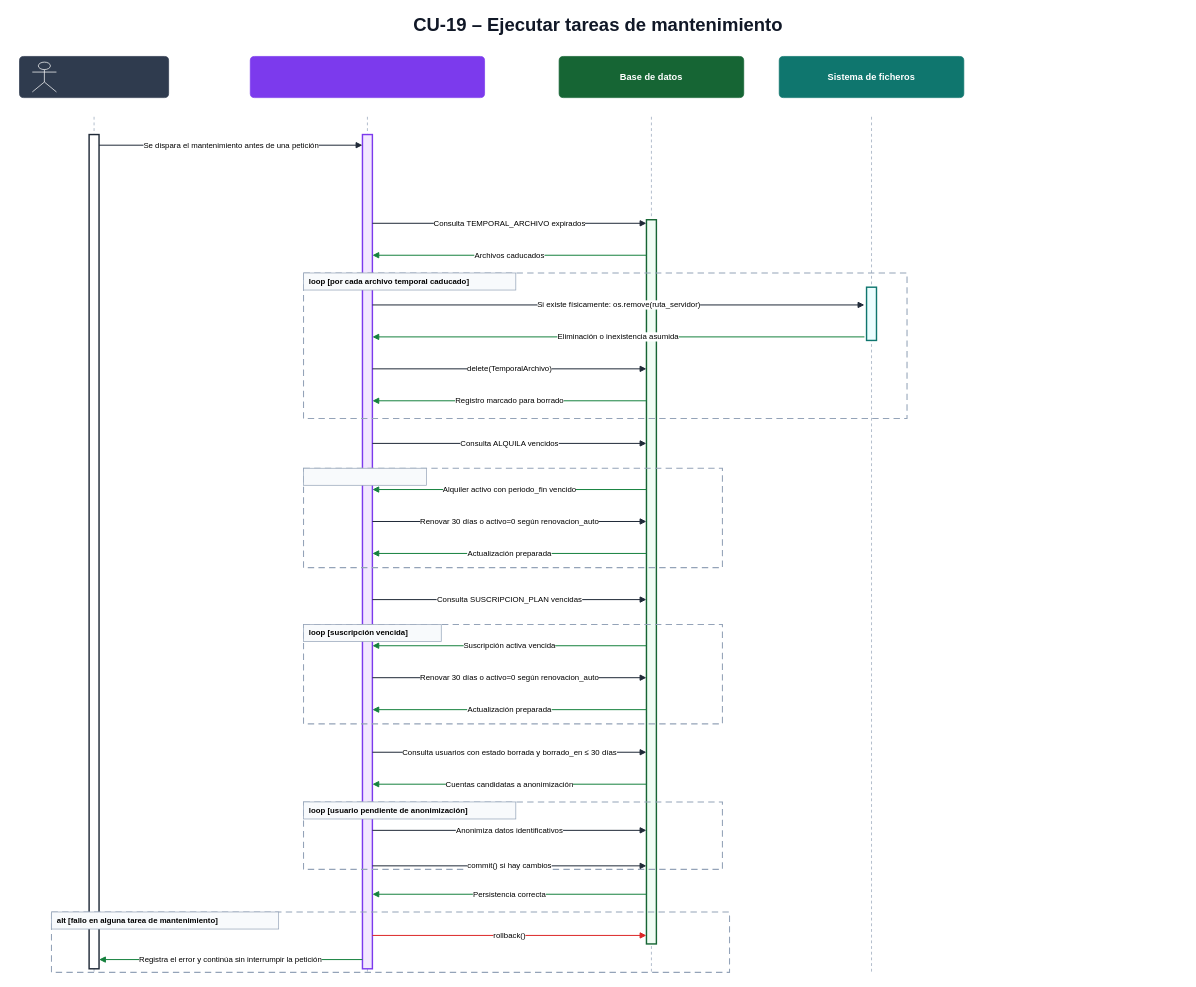
Image size: 1196x987. Some labels were removed from this diagram. The box of each missing label's shape, as (x1, y1, x2, y2) in pixels:
loop [alquiler vencido]: (303, 468, 426, 485)
Pipeline Controller: (250, 56, 485, 98)
Sistema: (19, 56, 169, 98)
